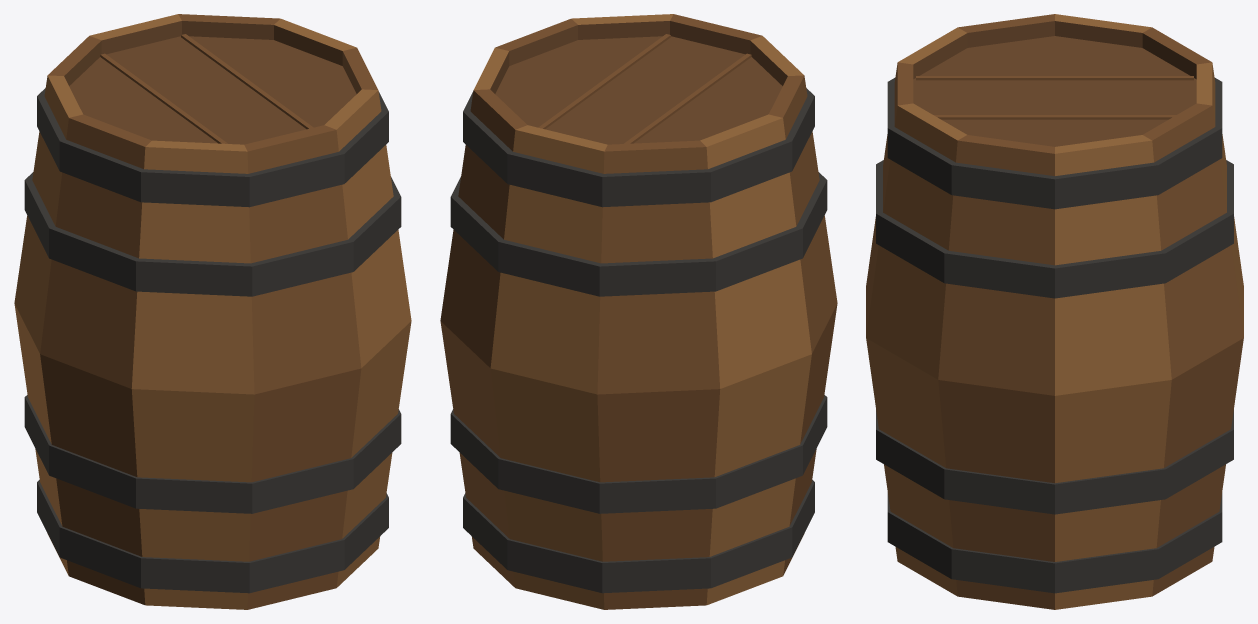
Rendered from prop-cave-barrel.glb.
3 views of the same model, side by side, from view 1: azimuth 30°, elevation 25°; view 2: azimuth 150°, elevation 25°; view 3: azimuth 270°, elevation 25° (orthographic).
Parts seen in each view (by area): view 1: CaveBarrel; view 2: CaveBarrel; view 3: CaveBarrel.
Part boxes in pixels (x1,y1,x2,y2): CaveBarrel: [14, 14, 411, 609]; CaveBarrel: [440, 14, 837, 609]; CaveBarrel: [866, 14, 1243, 609].
Bounding box in the file's own units: 0.6 × 0.76 × 0.5706.
